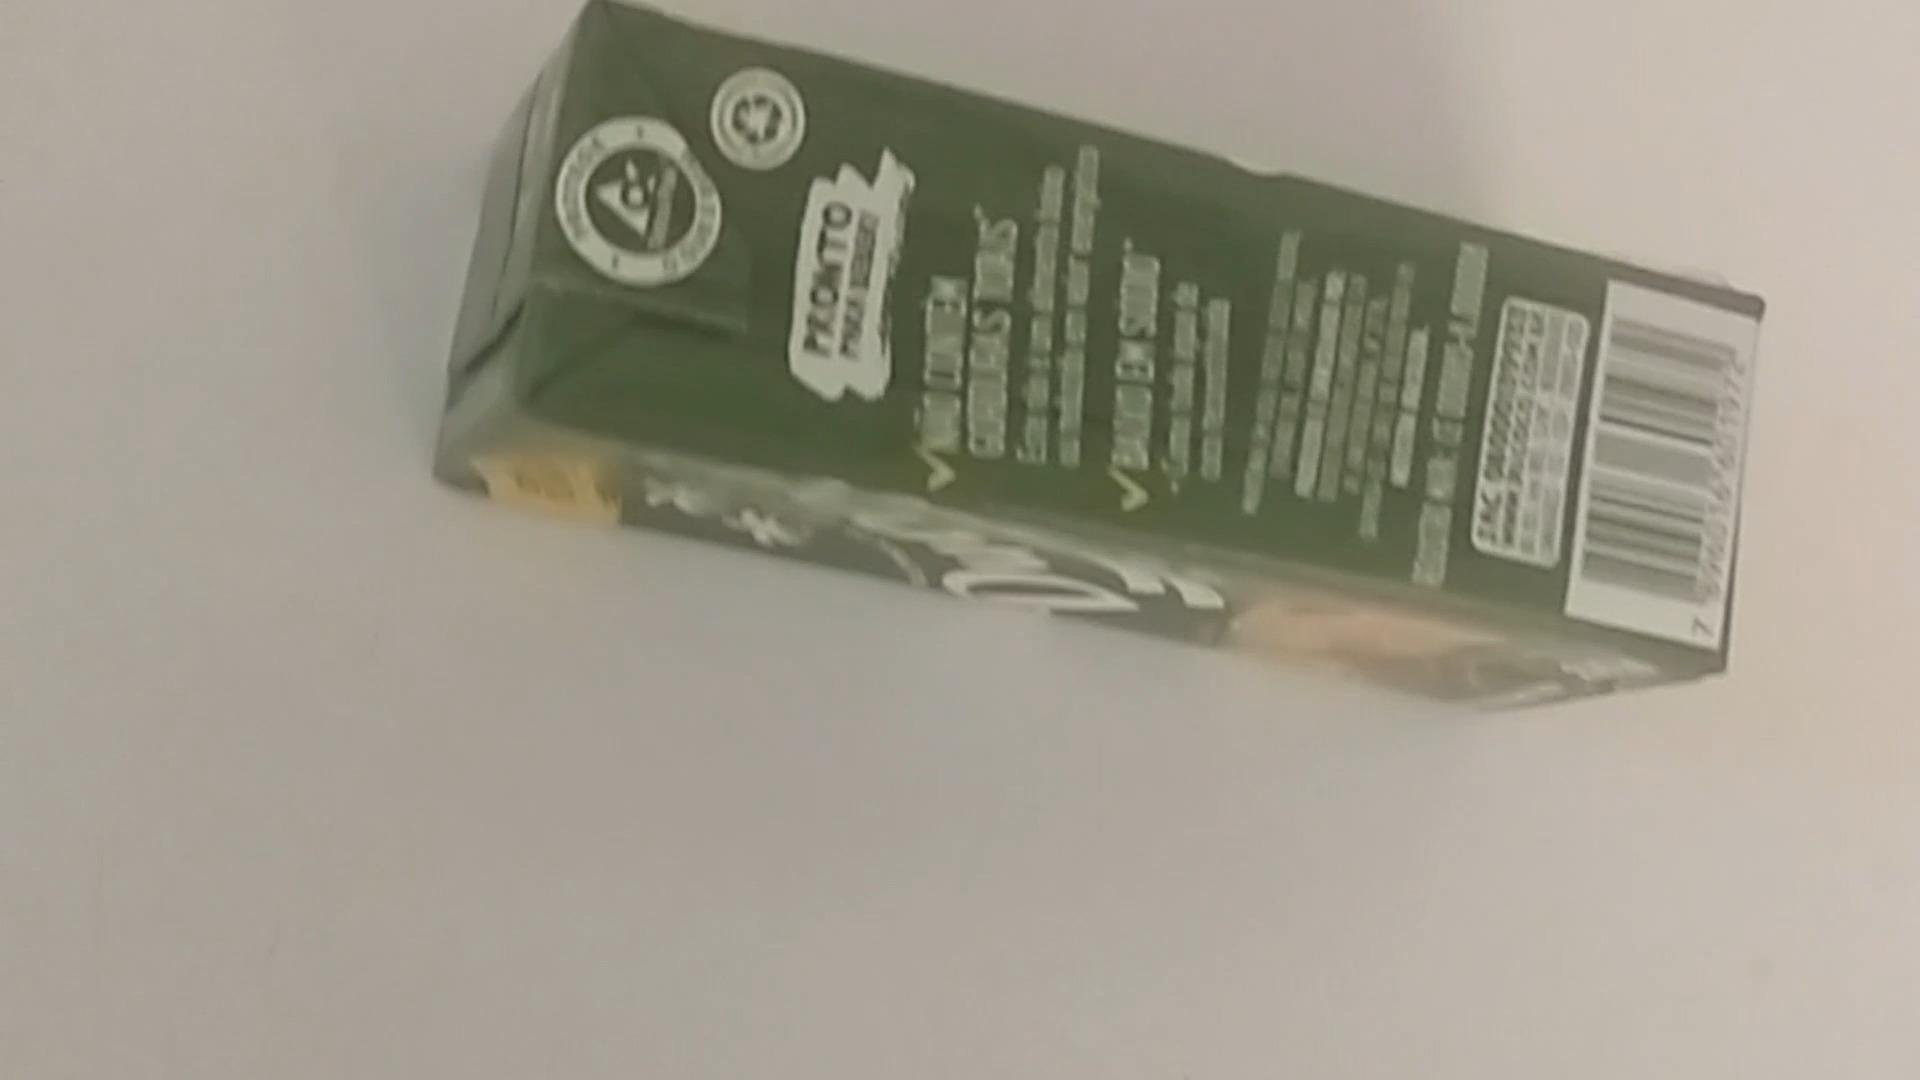coco: (427, 0, 1778, 728)
